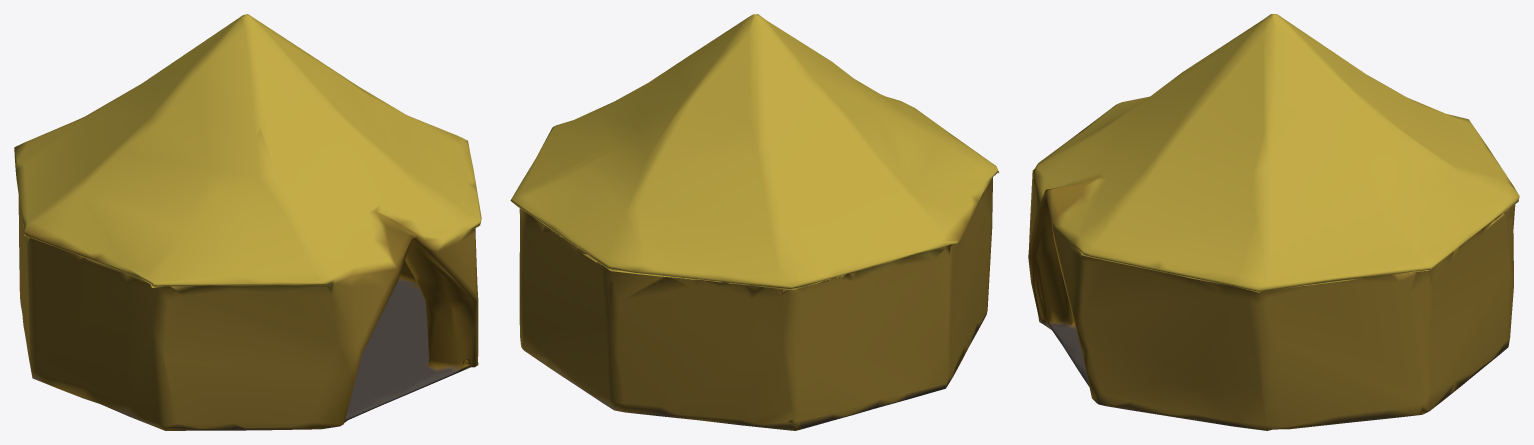
The model's file is gen3d-bedouin-tent-lod0.glb.
3 renders of one model, left to right at view 1: azimuth 30°, elevation 25°; view 2: azimuth 150°, elevation 25°; view 3: azimuth 270°, elevation 25°, orthographic.
Visible parts, largest first — view 1: part_0; view 2: part_0; view 3: part_0.
Part boxes in pixels (<box>): part_0: <box>14,14,481,430</box>; part_0: <box>510,14,999,430</box>; part_0: <box>1028,14,1519,430</box>.
Bounding box in the file's own units: 1.38 × 0.9952 × 1.38.
